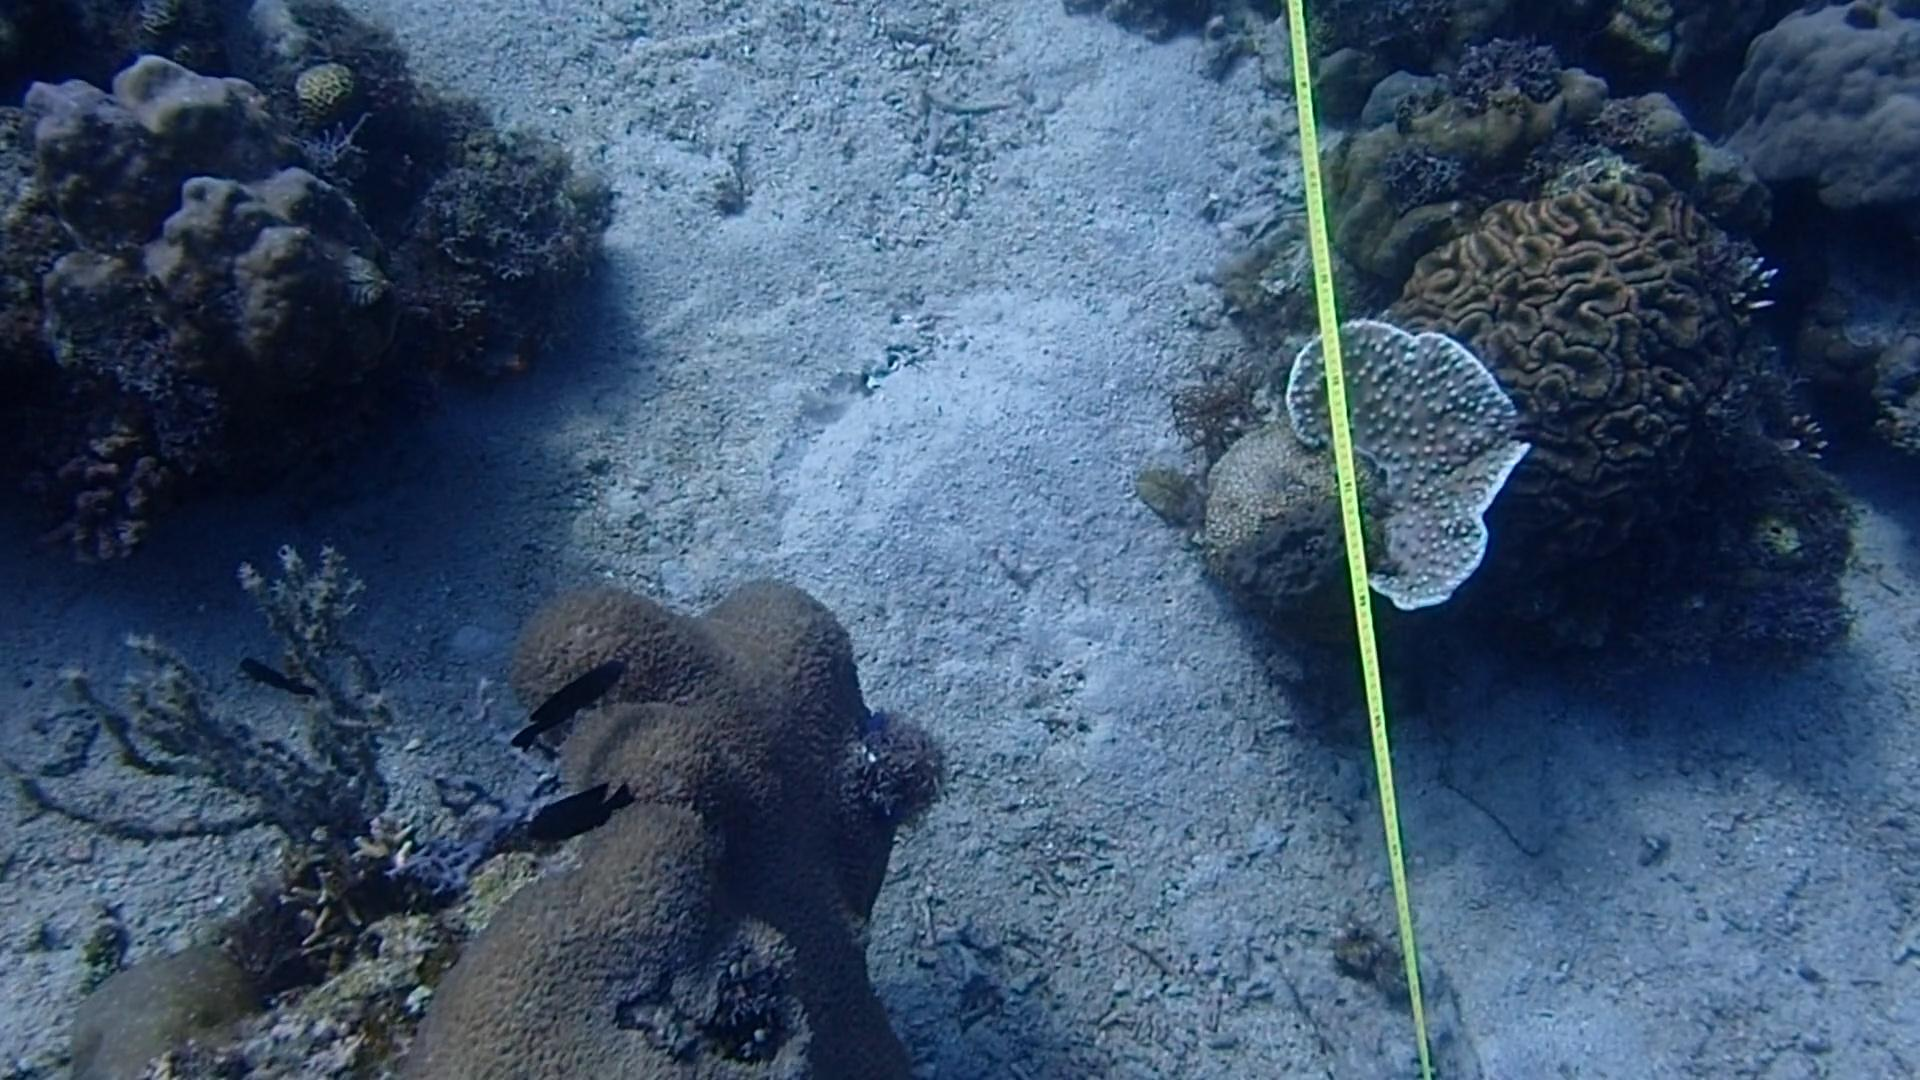Dark Fish: (506, 646, 622, 754), (220, 642, 328, 711), (526, 783, 628, 851)
